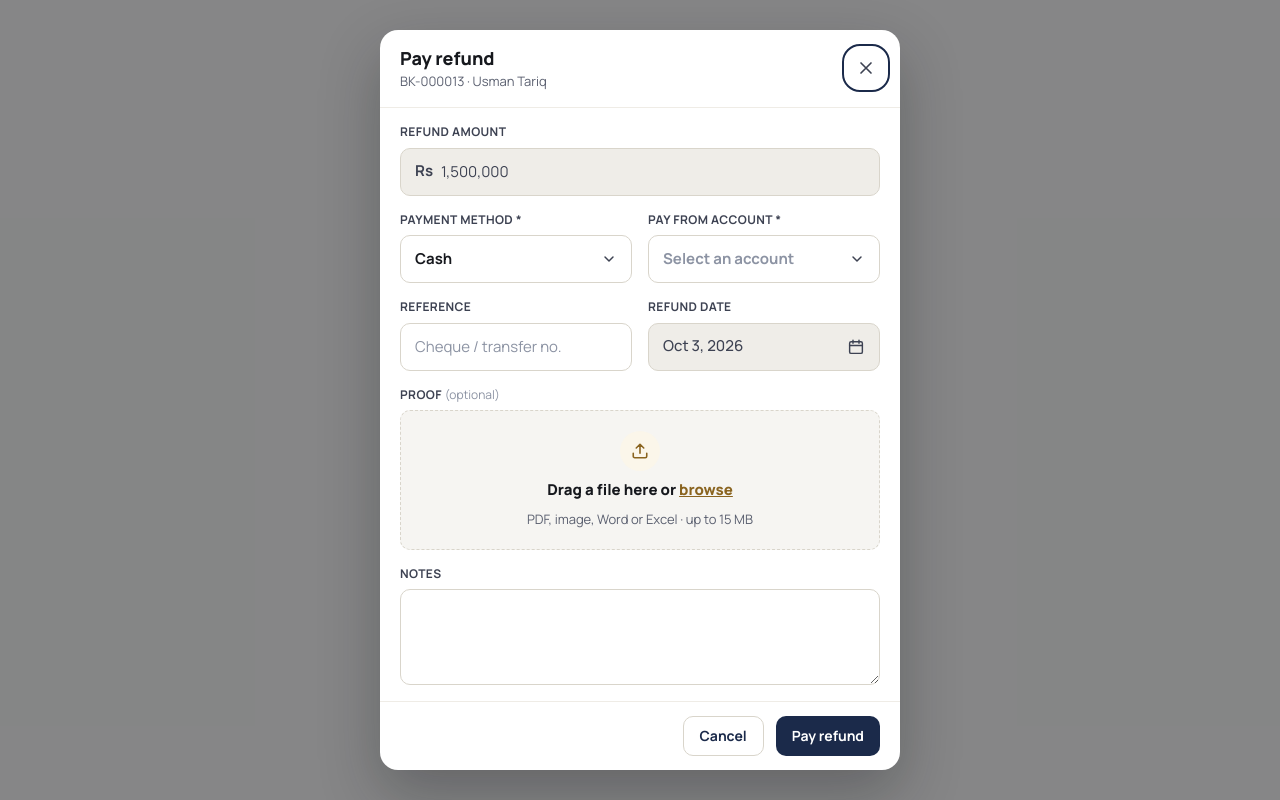
Scenario: Pay refund › asks for the account before sending anything
Click the button "Pay refund".
click(828, 736)  # box [776,716,880,756]
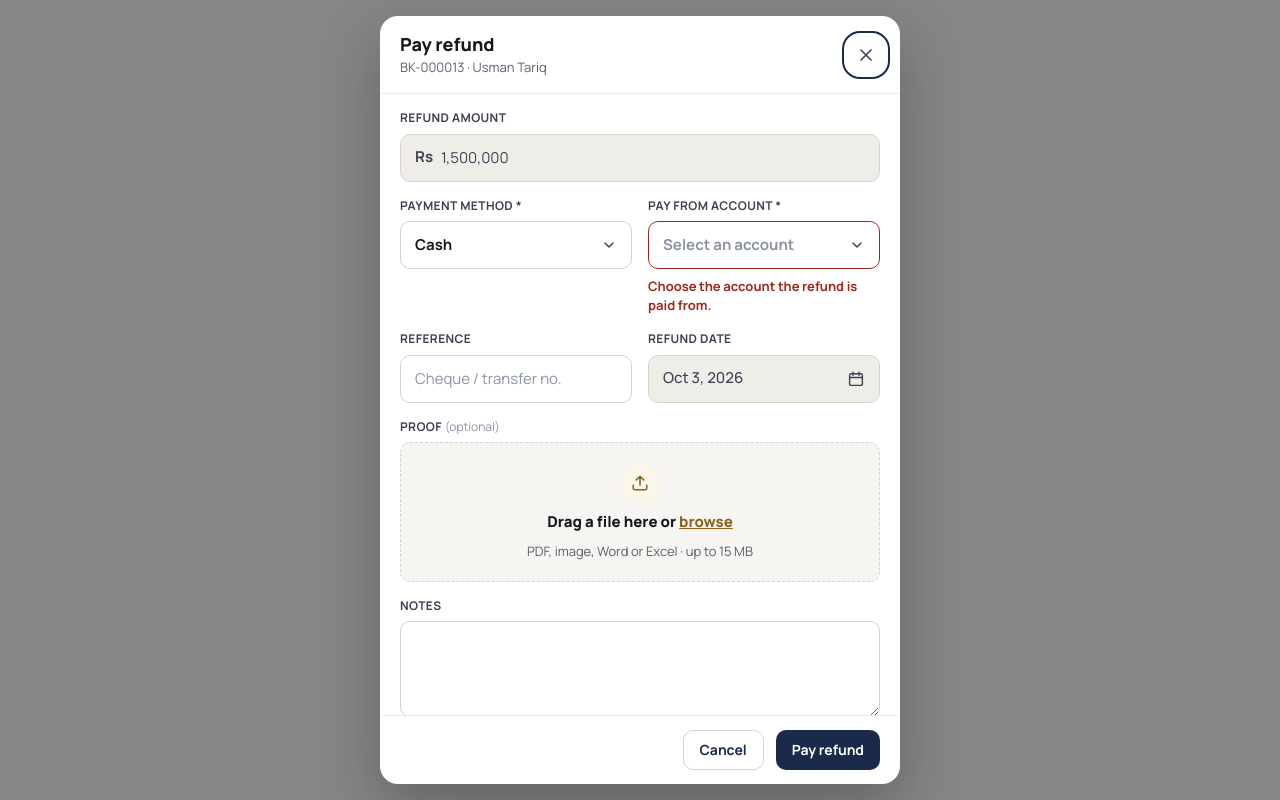
Expected: the text "Choose the account the refund is paid from." is shown, [648,277,880,315]
